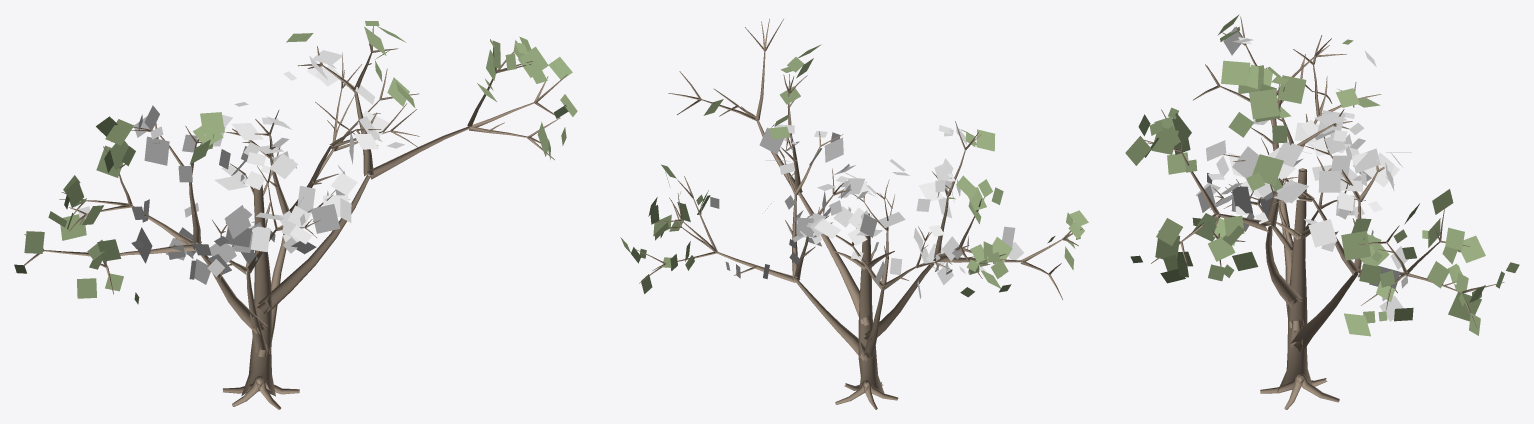
Rendered from tree-e-far.glb.
The picture shows the model from 3 angles, left to right: view 1: azimuth 30°, elevation 25°; view 2: azimuth 150°, elevation 25°; view 3: azimuth 270°, elevation 25°; orthographic projection. The views are drawn at different scales.
Visible parts, largest first — view 1: wood, leafDeep, leaf; view 2: wood, leafDeep, leaf; view 3: leaf, wood, leafDeep.
Boxes of the visible parts, x1,y1,x2,y2 form: wood: [16, 26, 567, 409]; leafDeep: [78, 50, 404, 284]; leaf: [14, 21, 577, 304]; wood: [636, 19, 1082, 409]; leafDeep: [710, 124, 1023, 298]; leaf: [620, 44, 1088, 297]; leaf: [1125, 14, 1519, 336]; wood: [1139, 16, 1504, 409]; leafDeep: [1195, 27, 1411, 321].
Size of the model in its own units: 21.5 by 14.26 by 13.5.
